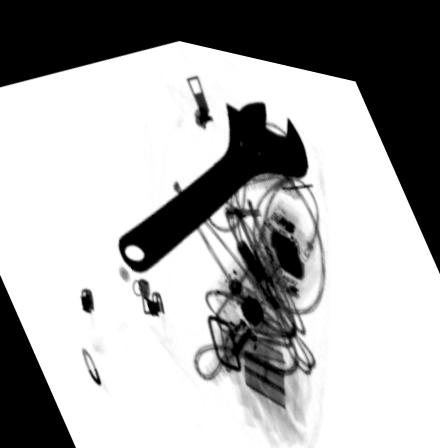Wrench: (115, 87, 308, 267)
